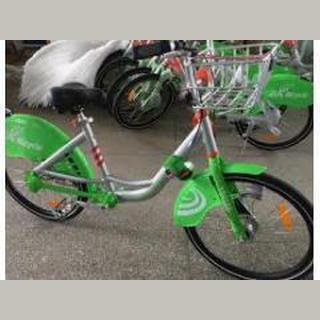Bike: (4, 100, 313, 280), (116, 40, 311, 149)
